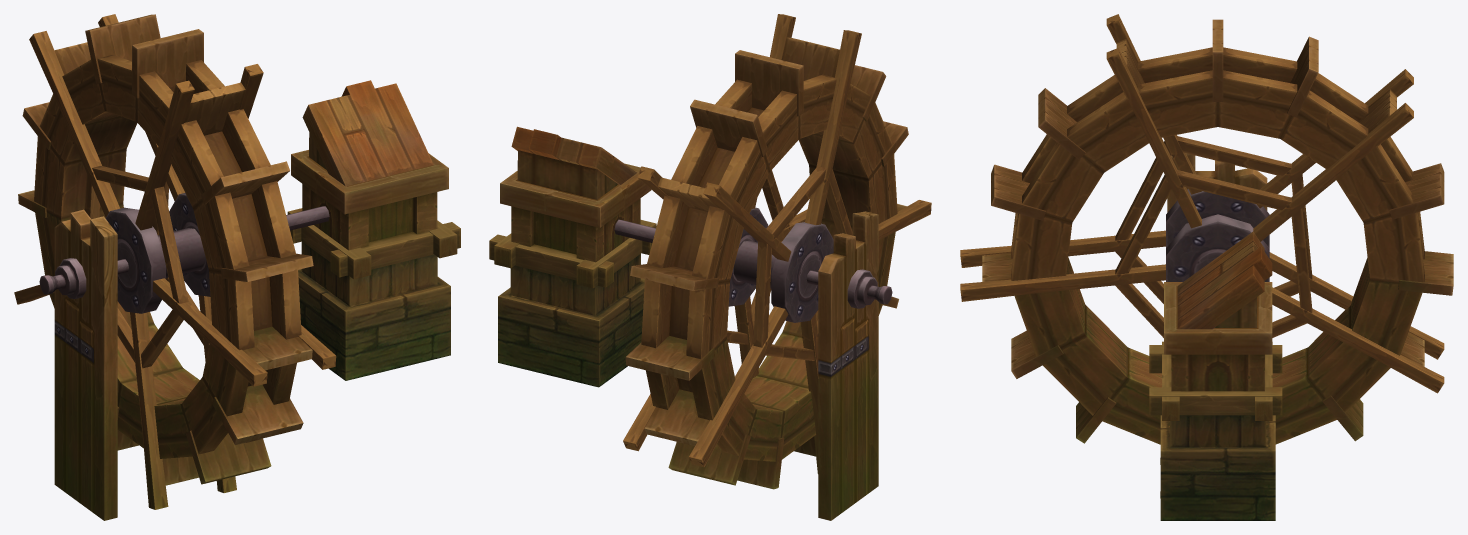
Rendered from Stage_CaoYuan_ShuiChe02.FBX.
The picture shows the model from 3 angles, left to right: view 1: azimuth 30°, elevation 25°; view 2: azimuth 150°, elevation 25°; view 3: azimuth 270°, elevation 25°; orthographic projection. The views are drawn at different scales.
Parts seen in each view (by area): view 1: Stage_CaoYuan_ShuiChe02; view 2: Stage_CaoYuan_ShuiChe02; view 3: Stage_CaoYuan_ShuiChe02.
Part boxes in pixels (box(x1,y1,x2,y2)): Stage_CaoYuan_ShuiChe02: box(14, 14, 460, 520); Stage_CaoYuan_ShuiChe02: box(489, 14, 931, 520); Stage_CaoYuan_ShuiChe02: box(960, 14, 1453, 520).
Size of the model in its own units: 526 by 574 by 574.
